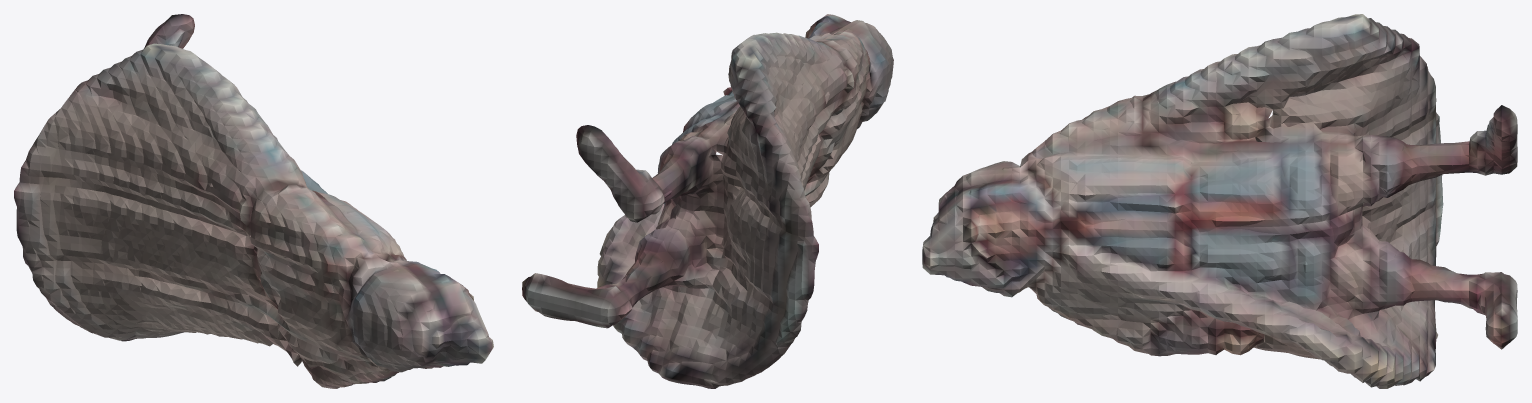
The model's file is medieval_commoner_m_0.glb.
3 renders of one model, left to right at view 1: azimuth 30°, elevation 25°; view 2: azimuth 150°, elevation 25°; view 3: azimuth 270°, elevation 25°, orthographic. The views are drawn at different scales.
Parts seen in each view (by area): view 1: world; view 2: world; view 3: world.
Part boxes in pixels (bbox=[...]): world: bbox=[14, 14, 493, 388]; world: bbox=[522, 14, 893, 388]; world: bbox=[922, 14, 1517, 388].
Bounding box in the file's own units: 0.543 × 0.6161 × 0.9997.
